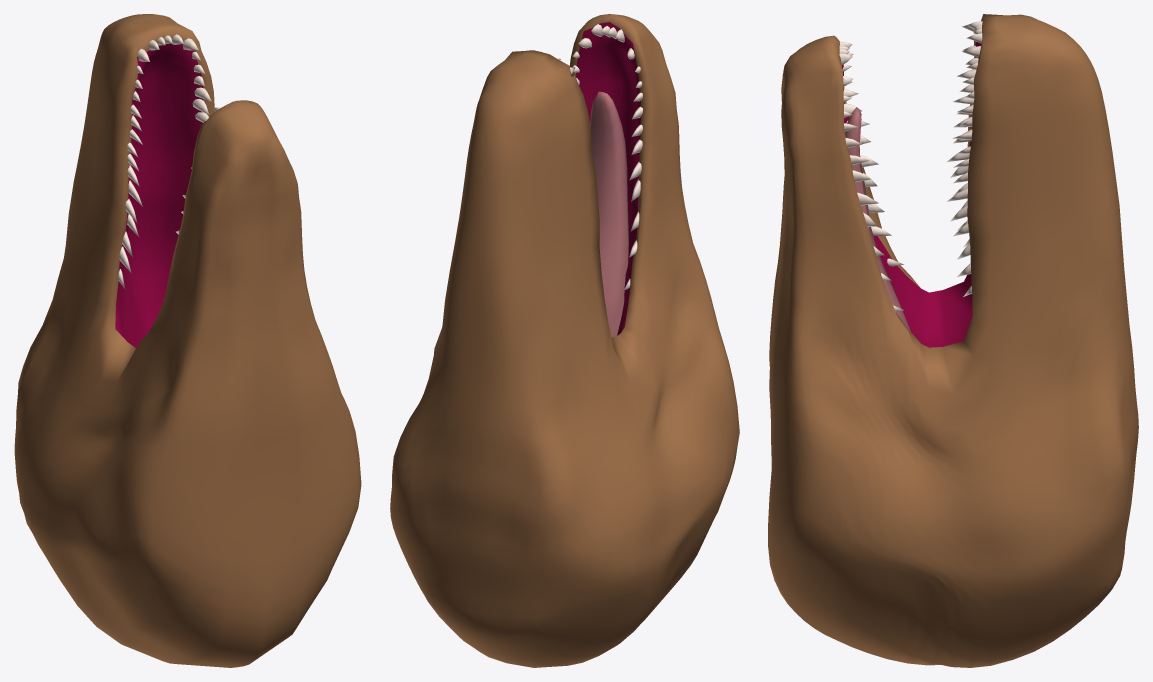
Rendered from Scaverzaur.fbx.
3 renders of one model, left to right at view 1: azimuth 30°, elevation 25°; view 2: azimuth 150°, elevation 25°; view 3: azimuth 270°, elevation 25°, orthographic. The views are drawn at different scales.
Visible parts, largest first — view 1: Scaverzaur - Poliostasis; view 2: Scaverzaur - Poliostasis; view 3: Scaverzaur - Poliostasis.
Boxes of the visible parts, x1,y1,x2,y2 form: Scaverzaur - Poliostasis: (14, 14, 361, 667); Scaverzaur - Poliostasis: (390, 14, 739, 667); Scaverzaur - Poliostasis: (768, 14, 1138, 667).
Bounding box in the file's own units: 50.06 × 116 × 61.89.
